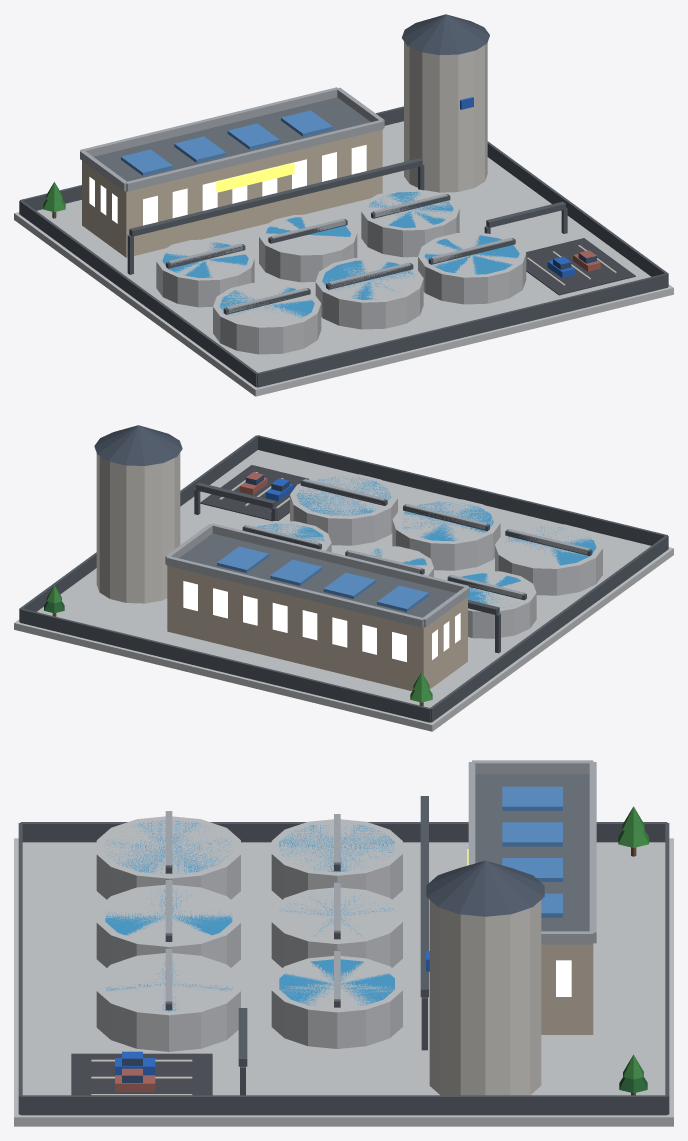
The picture shows the model from 3 angles, top to bottom: view 1: azimuth 30°, elevation 25°; view 2: azimuth 150°, elevation 25°; view 3: azimuth 270°, elevation 25°; orthographic projection. The views are drawn at different scales.
Visible parts, largest first — view 1: b82_x2; view 2: b82_x2; view 3: b82_x2.
Boxes of the visible parts, <box> form: b82_x2: <box>14,14,673,396</box>; b82_x2: <box>14,425,673,731</box>; b82_x2: <box>14,760,673,1126</box>.
Bounding box in the file's own units: 1.96 × 0.75 × 1.96.
